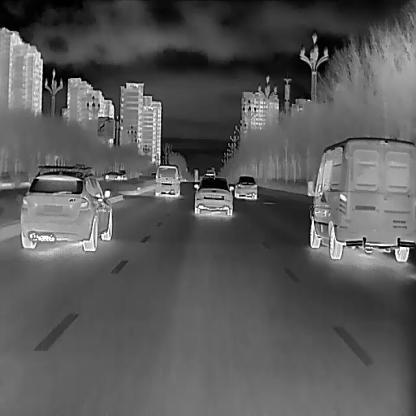car: (305, 135, 415, 262), (34, 163, 112, 252), (193, 175, 234, 215), (153, 163, 180, 197), (233, 175, 257, 199), (100, 170, 122, 180)
